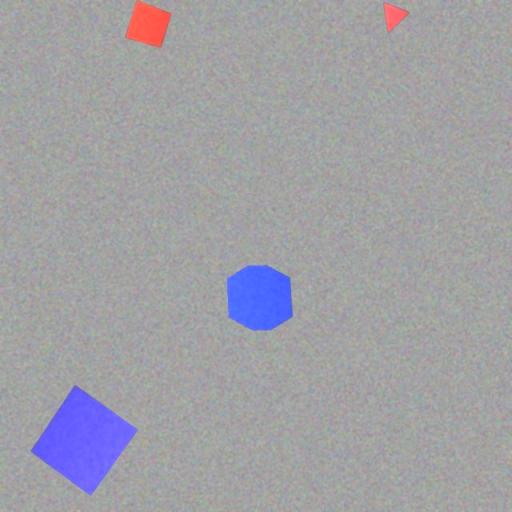BLUE_SQUARE: (30, 384, 138, 496)
RED_SQUARE: (125, 0, 172, 49)
